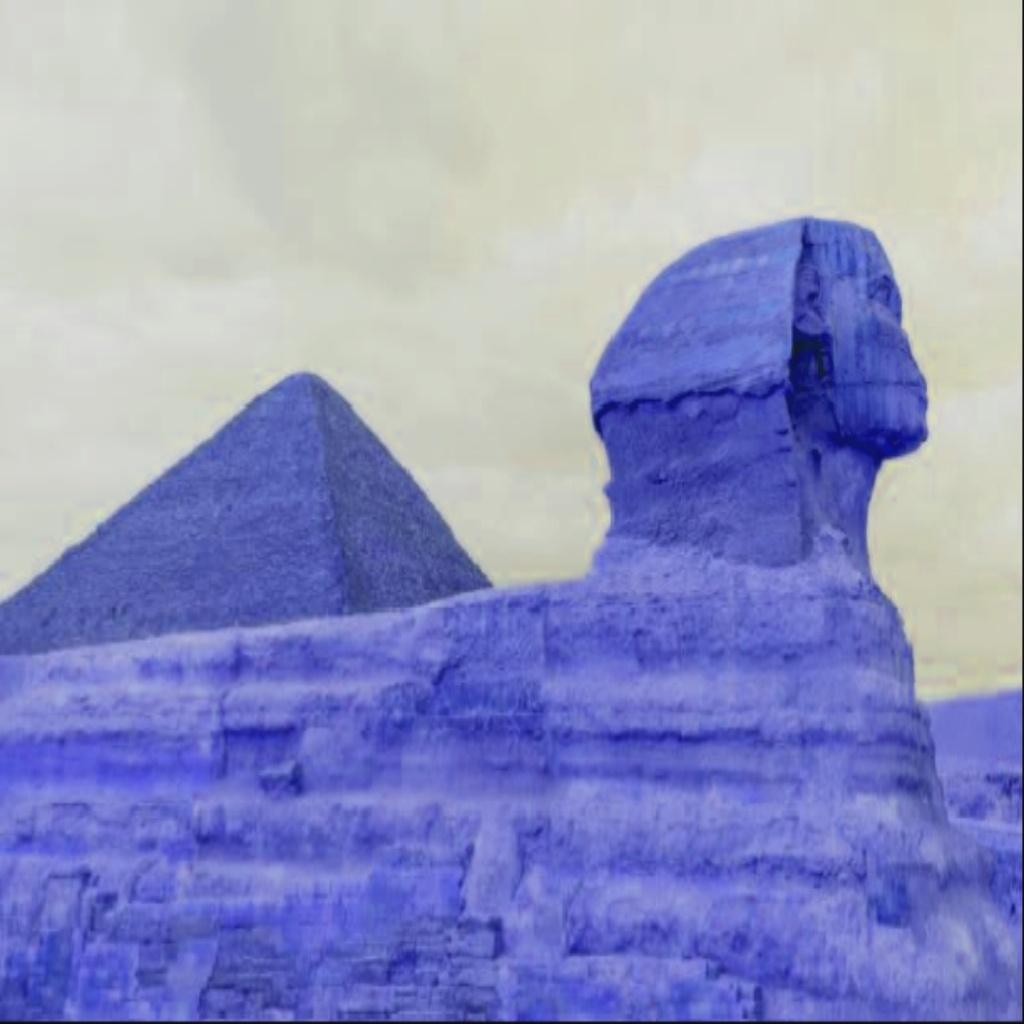Sphinx: (0, 213, 1021, 1019), (586, 214, 928, 584)
